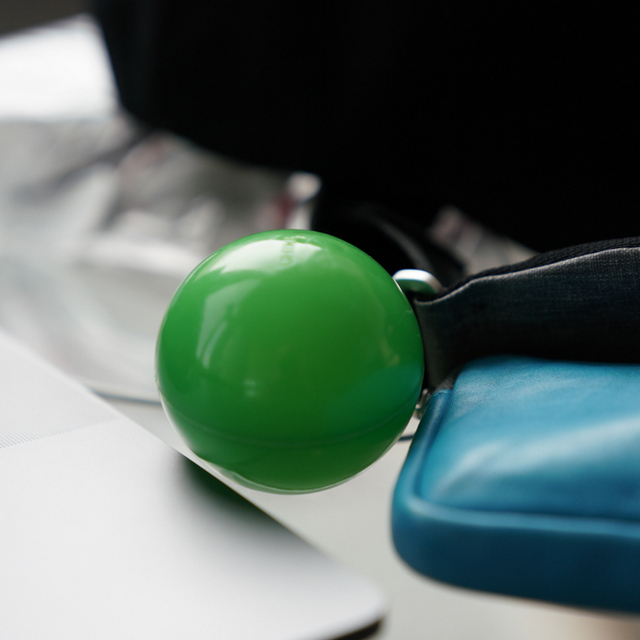Ball: (153, 230, 425, 495)
